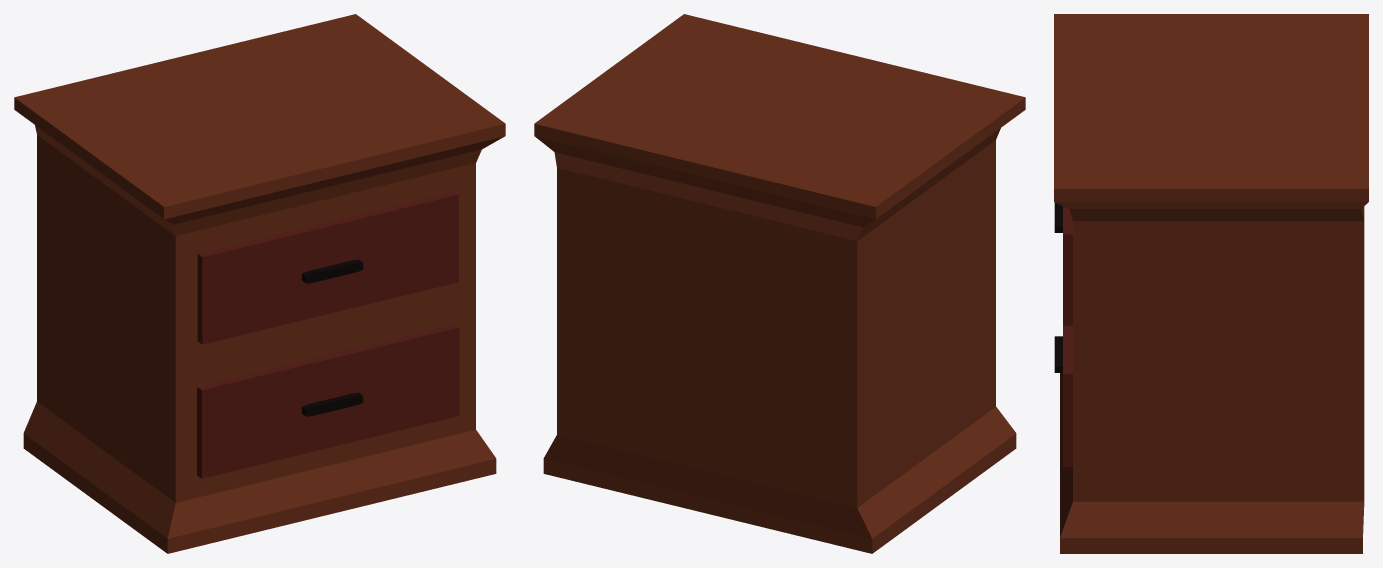
The model's file is bed_side_table.fbx.
The picture shows the model from 3 angles, left to right: view 1: azimuth 30°, elevation 25°; view 2: azimuth 150°, elevation 25°; view 3: azimuth 270°, elevation 25°; orthographic projection. The views are drawn at different scales.
Parts seen in each view (by area): view 1: Cube, Cube.002, Cube.001, Cube.004, Cube.003; view 2: Cube; view 3: Cube, Cube.002, Cube.001.
Boxes of the visible parts, bbox=[...] form: Cube: bbox=[14, 14, 505, 553]; Cube.002: bbox=[197, 324, 459, 478]; Cube.001: bbox=[197, 191, 458, 344]; Cube.004: bbox=[302, 259, 363, 283]; Cube.003: bbox=[302, 392, 363, 416]; Cube: bbox=[534, 14, 1025, 553]; Cube: bbox=[1054, 14, 1368, 553]; Cube.002: bbox=[1063, 326, 1072, 466]; Cube.001: bbox=[1063, 206, 1072, 325].
Size of the model in its own units: 407 by 399 by 309.
